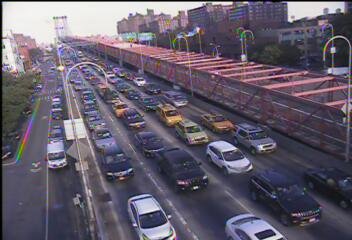neg: (37, 56, 67, 95), (130, 51, 154, 83), (155, 146, 178, 177), (219, 171, 241, 200), (192, 56, 213, 85), (259, 89, 279, 115), (102, 104, 120, 127), (284, 167, 301, 189)
